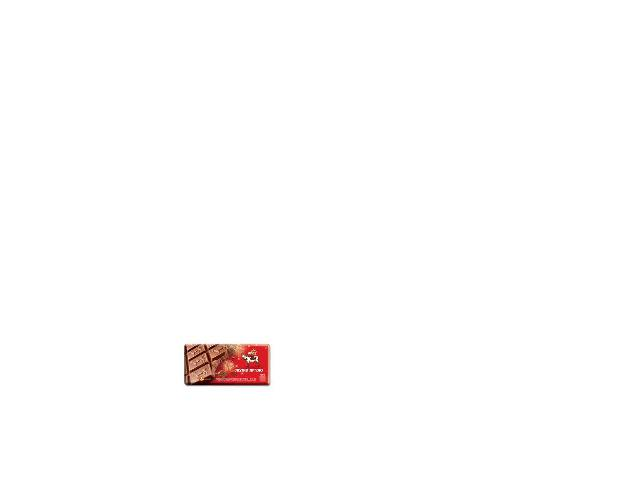chocolate: (182, 342, 271, 387)
